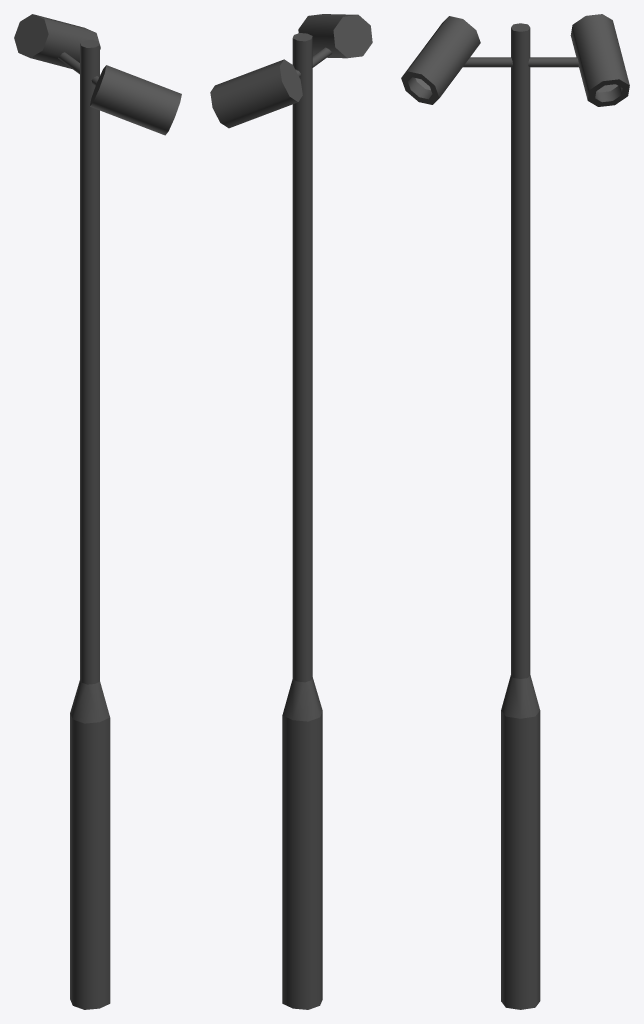
File: Light4.fbx
3 views of the same model, side by side, from view 1: azimuth 30°, elevation 25°; view 2: azimuth 150°, elevation 25°; view 3: azimuth 270°, elevation 25° (orthographic).
Visible parts, largest first — view 1: Light4; view 2: Light4; view 3: Light4.
Part boxes in pixels (x1,y1,x2,y2): Light4: (14,14,181,1009); Light4: (210,14,372,1009); Light4: (401,14,629,1009).
Size of the model in its own units: 0.1258 by 1.44 by 0.3043.
